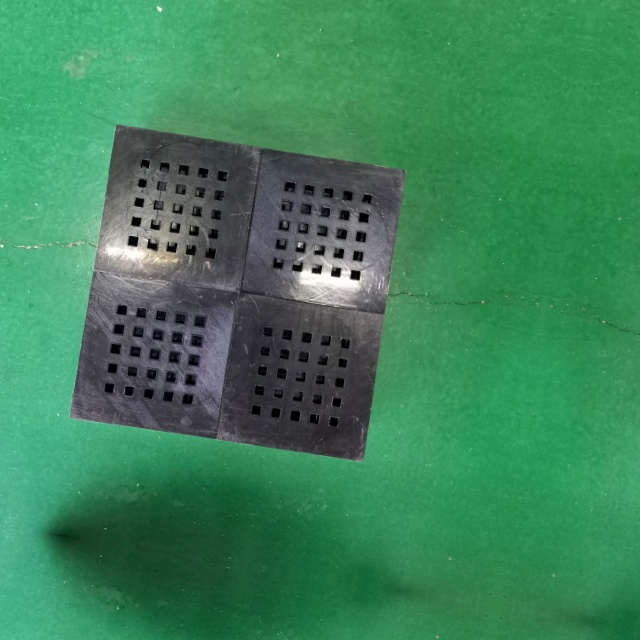pallet: (58, 104, 417, 475)
